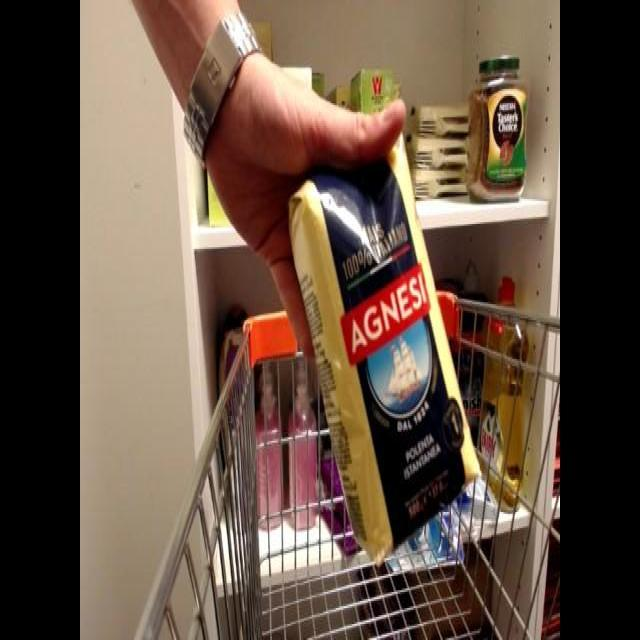Agnesi Polenta: (284, 104, 482, 566)
